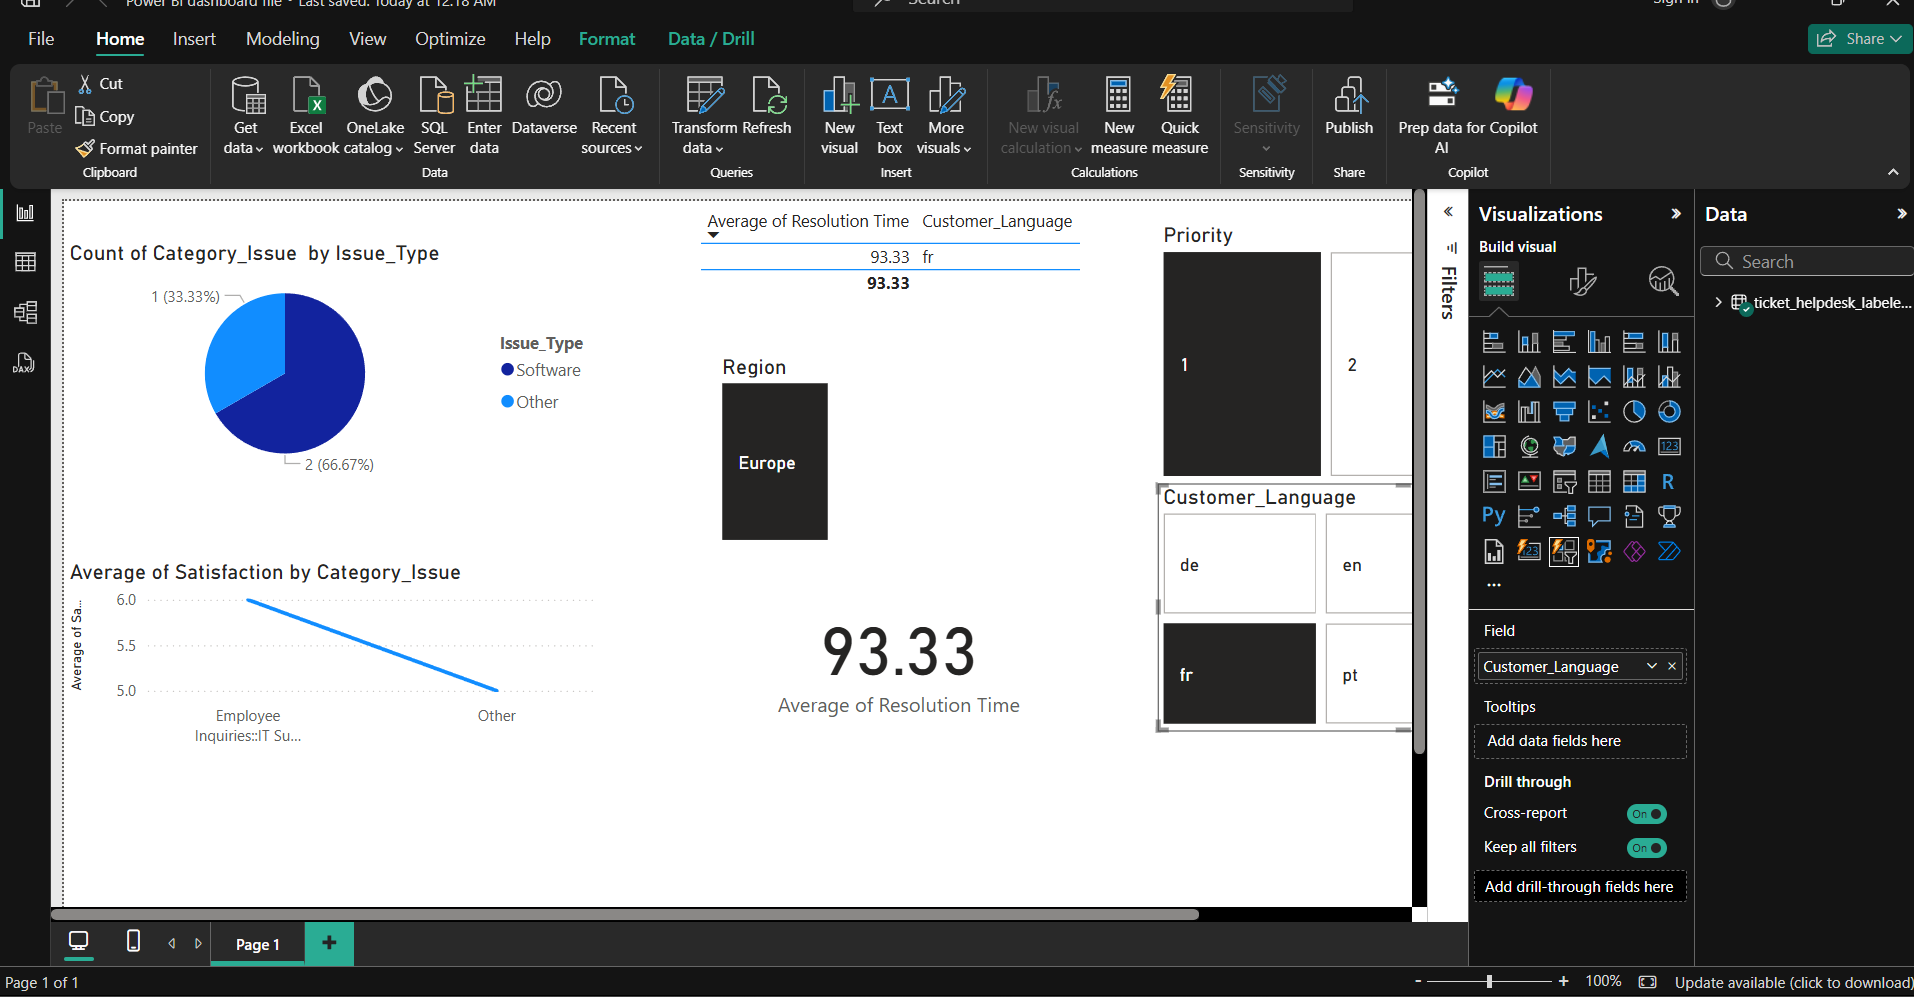

Layout of this report page (visuals, bound fields, positions):
{"tool":"powerbi","page":{"name":"Page 1","canvas":[1280,720],"ordinal":0},"visuals":[{"type":"pieChart","fields":{"Category":["ticket_helpdesk_labeled_multi_languages_english_spain_french_german_portugese -.Issue_Type"],"Y":["CountNonNull(ticket_helpdesk_labeled_multi_languages_english_spain_french_german_portugese -.Category_Issue )"]},"box":[0,31.1,439.1,195.3],"z":0},{"type":"lineChart","fields":{"Category":["ticket_helpdesk_labeled_multi_languages_english_spain_french_german_portugese -.Category_Issue "],"Y":["Avg(ticket_helpdesk_labeled_multi_languages_english_spain_french_german_portugese -.Satisfaction)"]},"box":[0,286.1,439.1,156.7],"z":1000},{"type":"tableEx","fields":{"Values":["Avg(ticket_helpdesk_labeled_multi_languages_english_spain_french_german_portugese -.Resolution Time)","ticket_helpdesk_labeled_multi_languages_english_spain_french_german_portugese -.Customer_Language"]},"box":[503.8,0,322.2,158],"z":2000},{"type":"card","fields":{"Values":["Avg(ticket_helpdesk_labeled_multi_languages_english_spain_french_german_portugese -.Resolution Time)"]},"box":[522.5,277.4,291.1,174.2],"z":3000},{"type":"advancedSlicerVisual","fields":{"Values":["ticket_helpdesk_labeled_multi_languages_english_spain_french_german_portugese -.Customer_Language"]},"box":[874.5,226.4,393.1,197.8],"z":4000},{"type":"advancedSlicerVisual","fields":{"Values":["ticket_helpdesk_labeled_multi_languages_english_spain_french_german_portugese -.Priority"]},"box":[874.5,17.4,405.5,209],"z":5000},{"type":"advancedSlicerVisual","fields":{"Values":["ticket_helpdesk_labeled_multi_languages_english_spain_french_german_portugese -.Region"]},"box":[522.5,121.9,277.4,155.5],"z":6000}]}

Visuals, with their boxes on the page's 1280x720 design canvas (x1, y1, x2, y2). These are canvas units, not pixel positions in the 1914x997 screenshot, which may show the page scaled, cropped or inside an application window:
pieChart - ticket_helpdesk_labeled_multi_languages_english_spain_french_german_portugese -.Issue_Type x CountNonNull(ticket_helpdesk_labeled_multi_languages_english_spain_french_german_portugese -.Category_Issue ): box=[0, 31, 439, 226]
lineChart - ticket_helpdesk_labeled_multi_languages_english_spain_french_german_portugese -.Category_Issue  x Avg(ticket_helpdesk_labeled_multi_languages_english_spain_french_german_portugese -.Satisfaction): box=[0, 286, 439, 443]
tableEx - Avg(ticket_helpdesk_labeled_multi_languages_english_spain_french_german_portugese -.Resolution Time) x ticket_helpdesk_labeled_multi_languages_english_spain_french_german_portugese -.Customer_Language: box=[504, 0, 826, 158]
card - Avg(ticket_helpdesk_labeled_multi_languages_english_spain_french_german_portugese -.Resolution Time): box=[522, 277, 814, 452]
advancedSlicerVisual - ticket_helpdesk_labeled_multi_languages_english_spain_french_german_portugese -.Customer_Language: box=[874, 226, 1268, 424]
advancedSlicerVisual - ticket_helpdesk_labeled_multi_languages_english_spain_french_german_portugese -.Priority: box=[874, 17, 1280, 226]
advancedSlicerVisual - ticket_helpdesk_labeled_multi_languages_english_spain_french_german_portugese -.Region: box=[522, 122, 800, 277]
